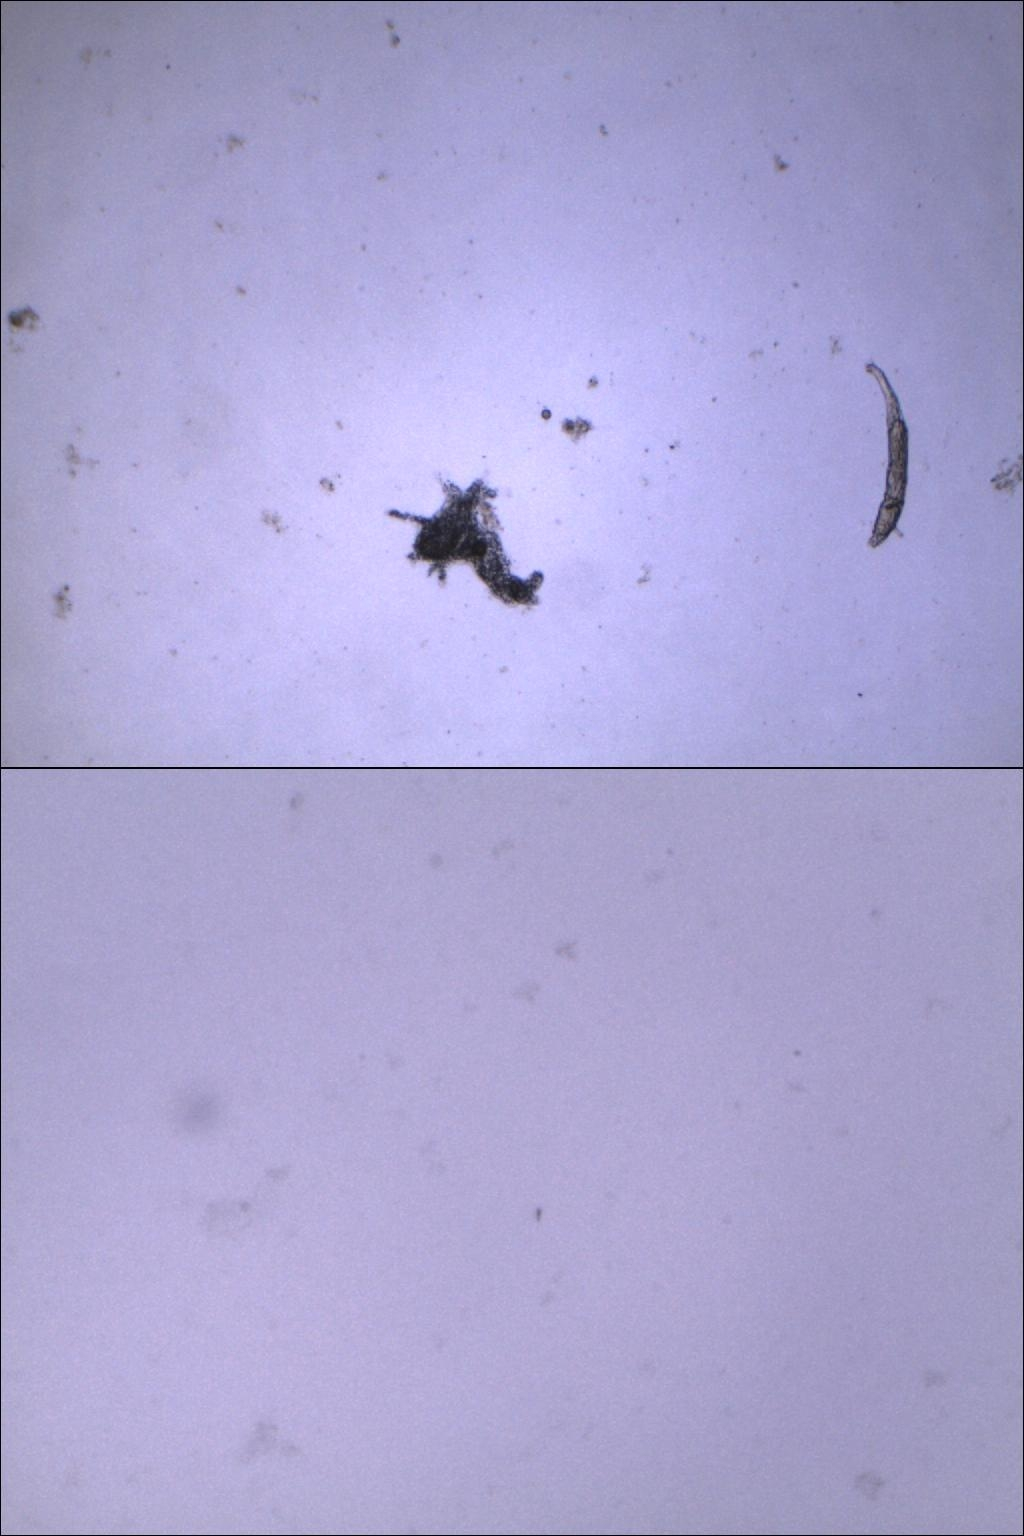N.Fowleri Amoeba: (158, 1147, 310, 1259)
Proteus Amoeba: (378, 459, 555, 623)
